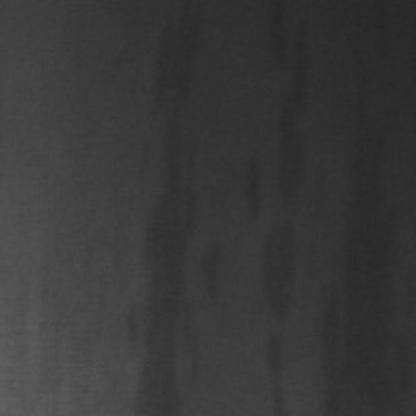inclusion: (130, 0, 206, 410), (335, 98, 410, 410), (254, 0, 308, 331), (256, 324, 293, 414)
